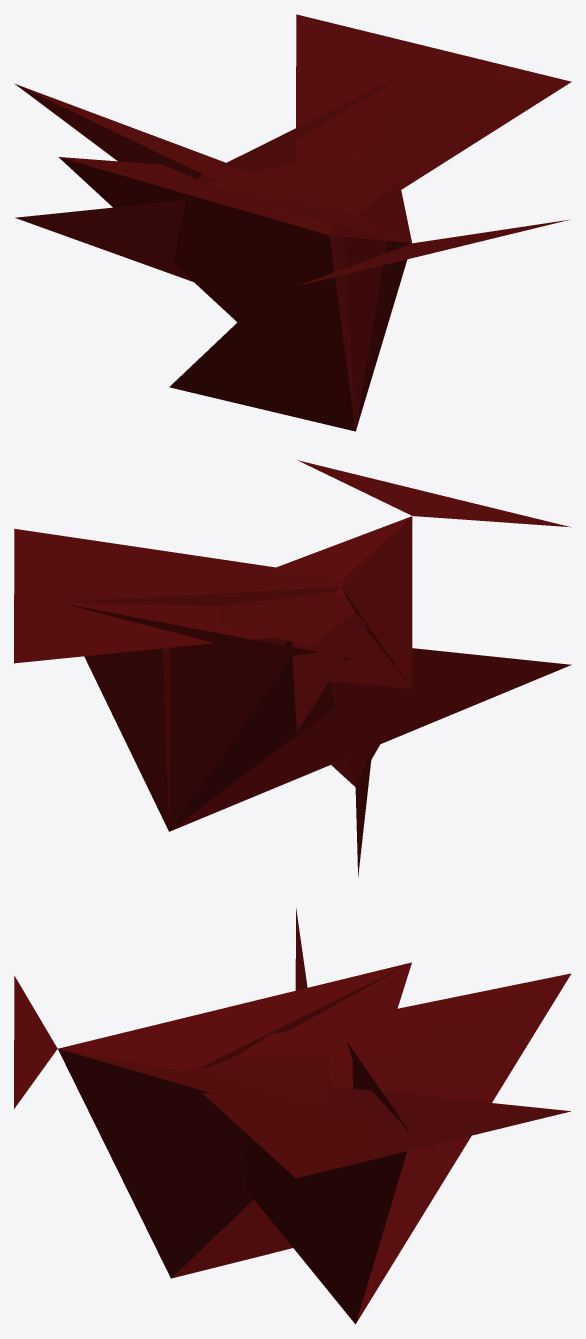
Rendered from S.S._Dolphin_Chronos_Reactor_4.obj.
3 renders of one model, top to bottom at view 1: azimuth 30°, elevation 25°; view 2: azimuth 150°, elevation 25°; view 3: azimuth 270°, elevation 25°, orthographic.
Visible parts, largest first — view 1: S.S._Dolphin_Chronos_Reactor_4; view 2: S.S._Dolphin_Chronos_Reactor_4; view 3: S.S._Dolphin_Chronos_Reactor_4.
Boxes of the visible parts, x1,y1,x2,y2 form: S.S._Dolphin_Chronos_Reactor_4: (14,14,571,431); S.S._Dolphin_Chronos_Reactor_4: (14,460,571,877); S.S._Dolphin_Chronos_Reactor_4: (14,908,571,1324).
Size of the model in its own units: 1.91 by 0.7716 by 1.65.
